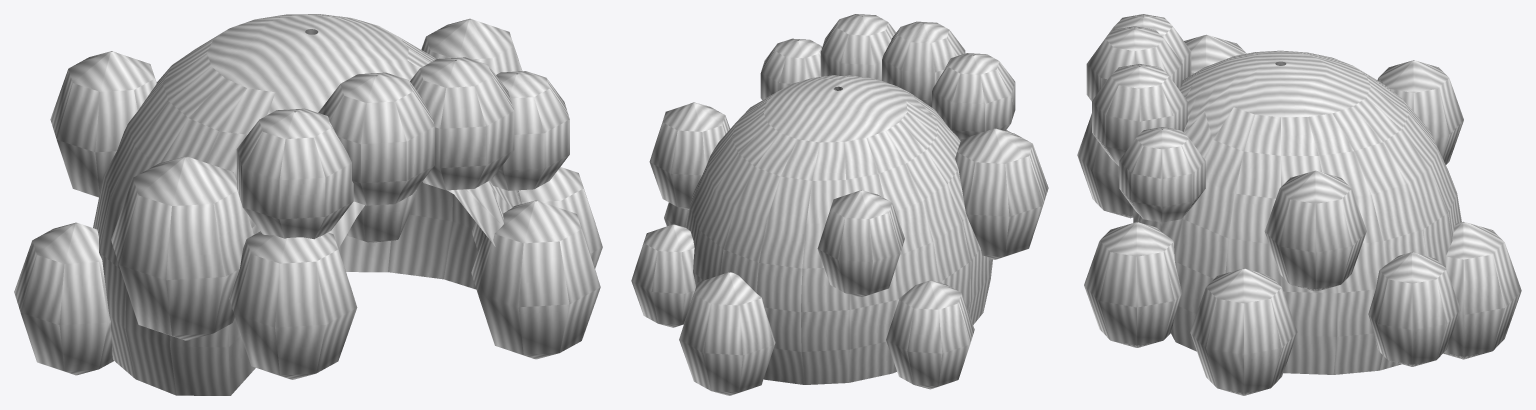
File: hair_shaggy.glb
The picture shows the model from 3 angles, left to right: view 1: azimuth 30°, elevation 25°; view 2: azimuth 150°, elevation 25°; view 3: azimuth 270°, elevation 25°; orthographic projection. The views are drawn at different scales.
Visible parts, largest first — view 1: hair_shaggy; view 2: hair_shaggy; view 3: hair_shaggy.
Part boxes in pixels (x1=…): hair_shaggy: x1=14, y1=14, x2=602, y2=395; hair_shaggy: x1=631, y1=14, x2=1048, y2=395; hair_shaggy: x1=1077, y1=14, x2=1521, y2=395.
Size of the model in its own units: 0.364 by 0.2672 by 0.3529.
Materials: 1 (1 with a texture image).
